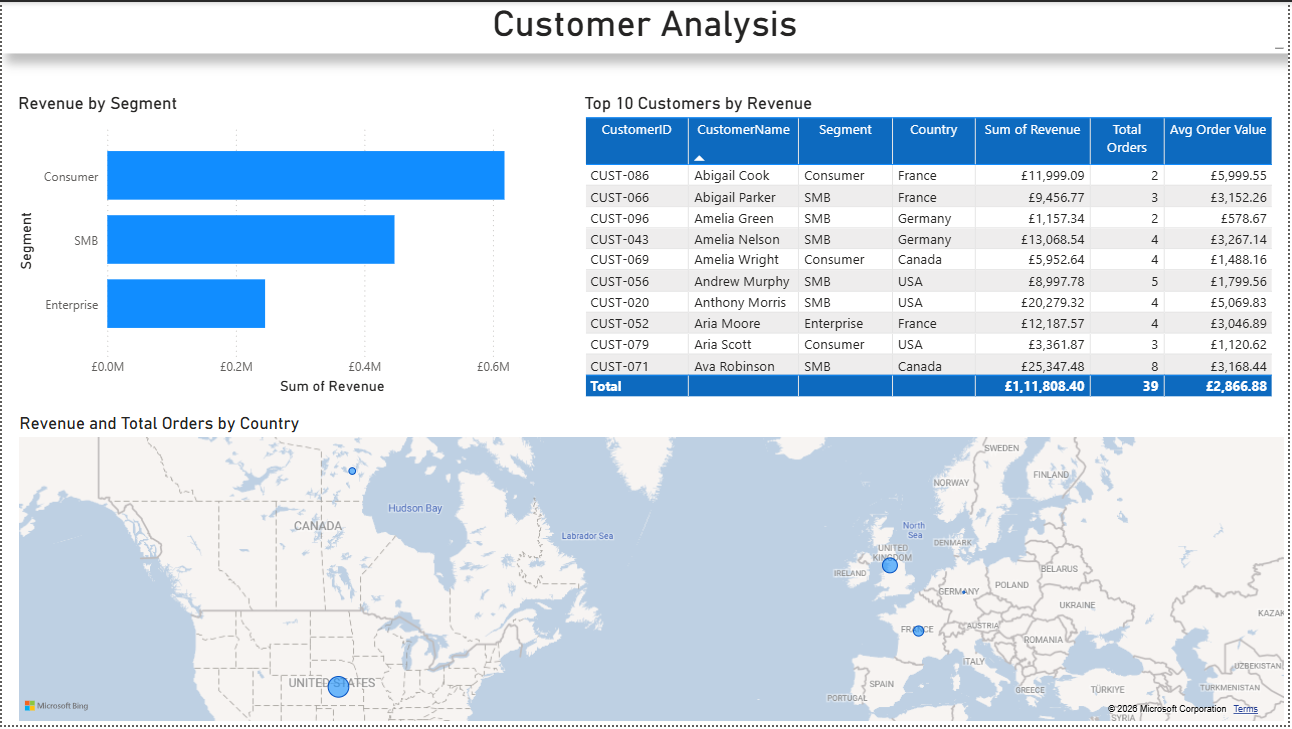

What the dashboard file says about the page in this screenshot:
{"tool":"powerbi","page":{"name":"Page 3","canvas":[1280,720],"ordinal":2},"visuals":[{"type":"textbox","title":"Customer Analysis","box":[0,0,1280,51],"z":0},{"type":"clusteredBarChart","title":"Revenue by Segment","fields":{"Category":["DimCustomer.Segment"],"Y":["Sum(FactSales.Revenue)"]},"box":[11.2,90.8,563.5,304.8],"z":1000},{"type":"map","title":"Revenue and Total Orders by Country","fields":{"Category":["DimCustomer.Country"],"Size":["Sum(FactSales.Revenue)"]},"box":[12.4,409.3,1267.6,311],"z":2000},{"type":"tableEx","title":"Top 10 Customers by Revenue","fields":{"Values":["DimCustomer.CustomerID","DimCustomer.CustomerName","DimCustomer.Segment","DimCustomer.Country","Sum(FactSales.Revenue)","FactSales.Total Orders","FactSales.Avg Order Value"]},"box":[574.7,90.8,705.3,318.5],"z":3000}]}

Visuals, with their boxes in screenshot pixels (x1, y1, x2, y2), scaled from the page's 1280x720 canvas onto the 1292x729 screenshot:
"Customer Analysis" textbox: 0, 0, 1291, 52
"Revenue by Segment" clusteredBarChart: 11, 92, 580, 401
"Revenue and Total Orders by Country" map: 13, 414, 1291, 728
"Top 10 Customers by Revenue" tableEx: 580, 92, 1291, 414
